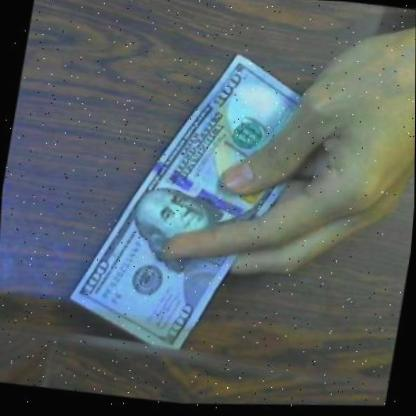one_hundred-front: (52, 22, 377, 389)
